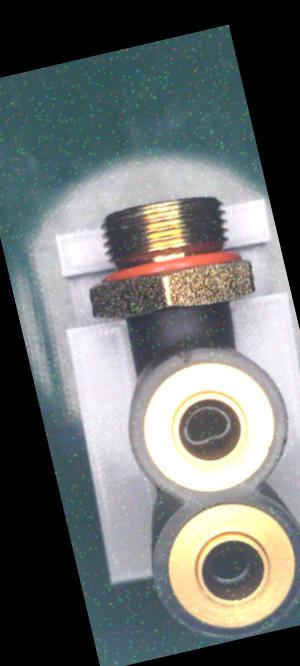joint line: (176, 319, 191, 346)
off-centered: (173, 398, 242, 453)
